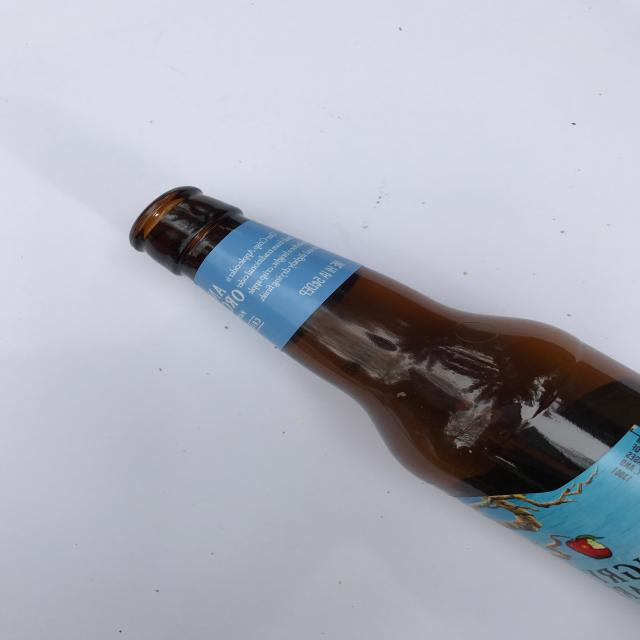glass: (129, 184, 640, 606)
